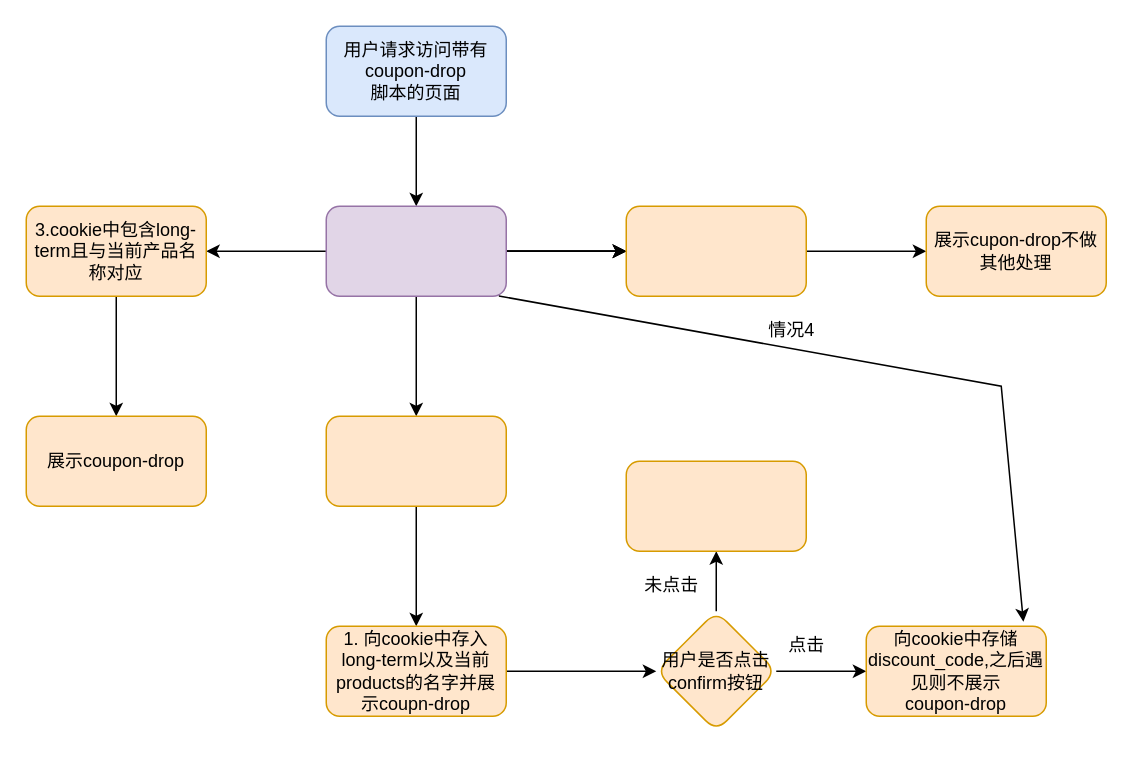
This 1133x758 diagram has some shape labels left out. Each missing label, with the centre of its shape:
"1. url的search参数中包含utm_term=,并且它的值为one-time" belongs at pixel 715 250.
"2. url的search参数中包含utm_term=,并且它的值为long-term" belongs at pixel 415 460.
"coupon-drop是否显示的四种情况" belongs at pixel 415 250.
"什么也不做" belongs at pixel 715 505.
